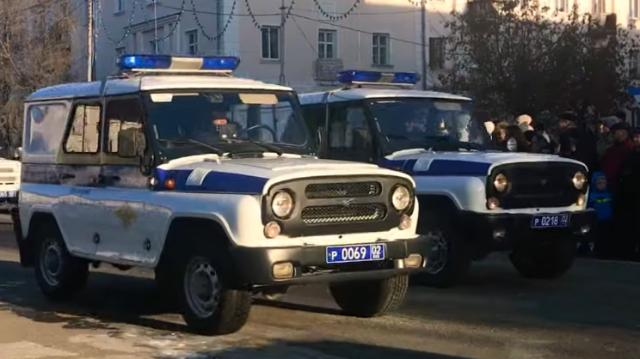police car: (19, 52, 431, 338), (294, 68, 588, 288)
